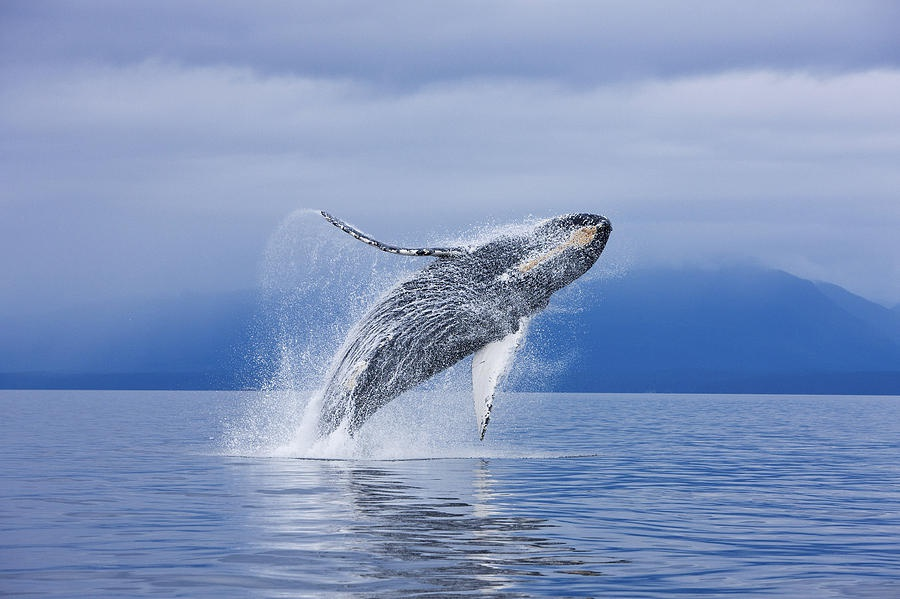humpback: (303, 208, 614, 439)
